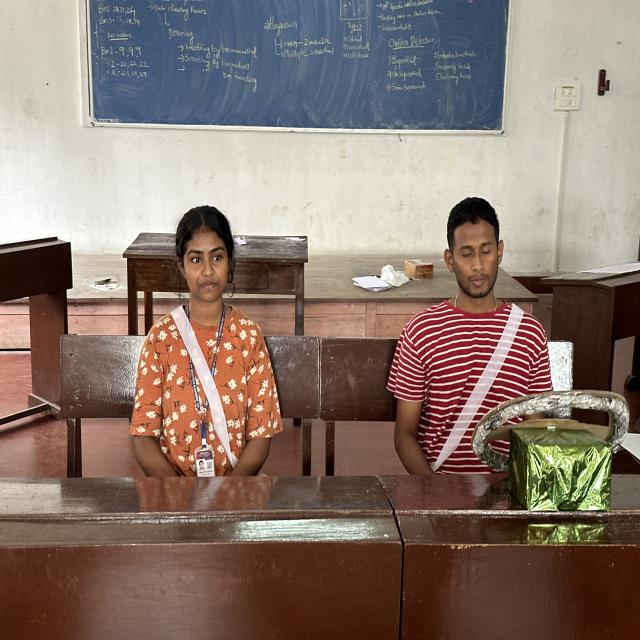seatbelt: (142, 307, 298, 482), (388, 305, 556, 467)
